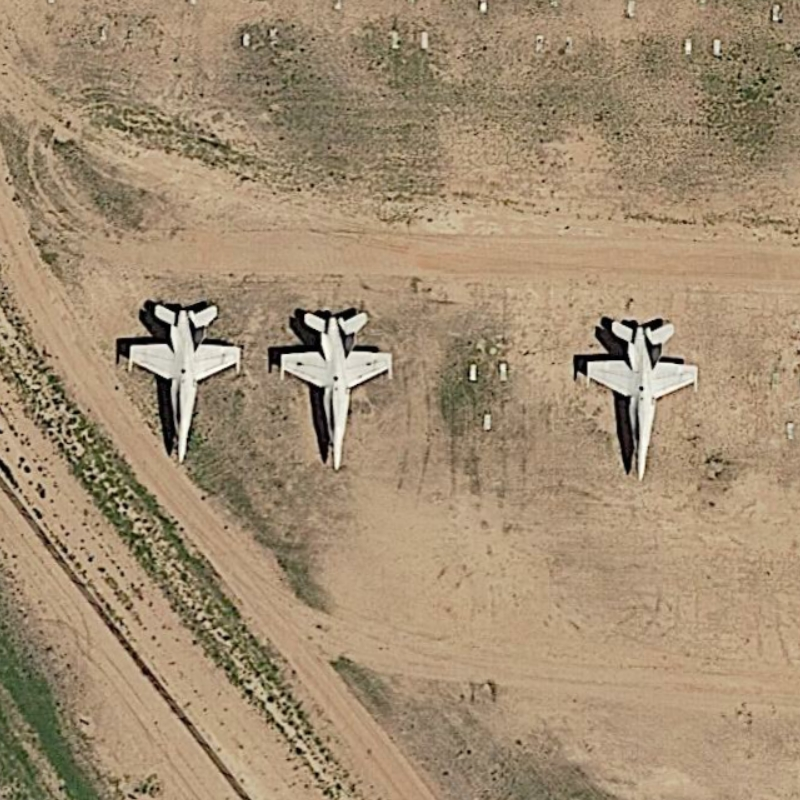A16: (115, 290, 248, 472), (571, 312, 710, 485), (271, 299, 398, 482)
